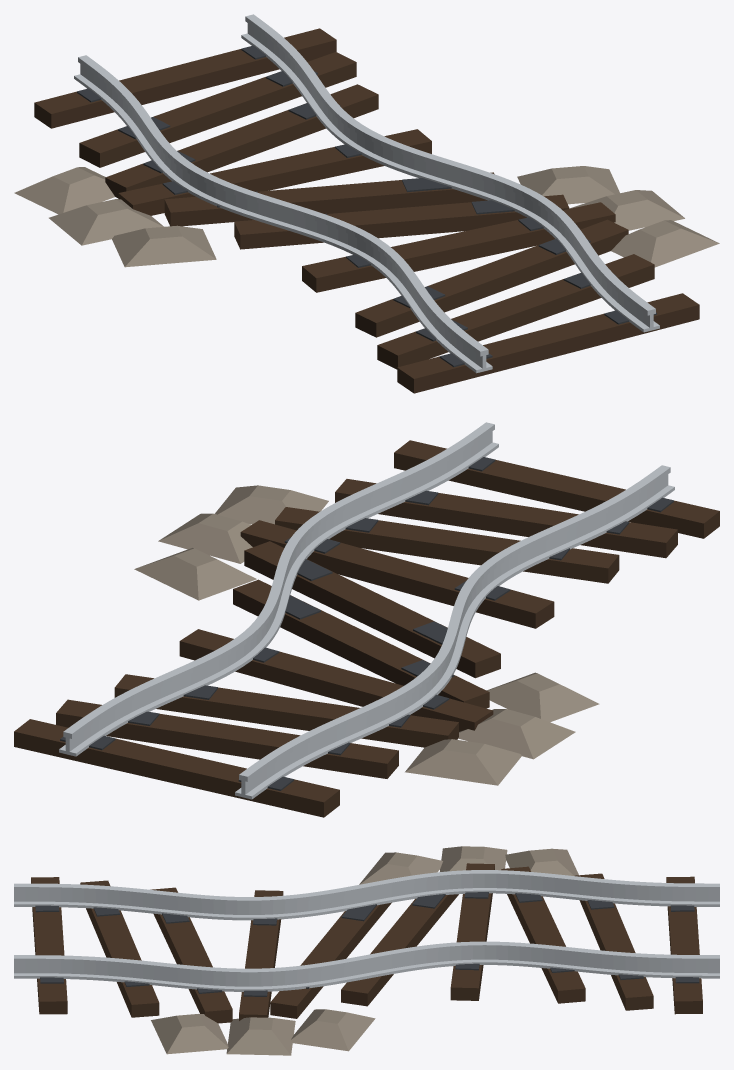
Rendered from prop_track_buckled.glb.
3 views of the same model, one above another, from view 1: azimuth 30°, elevation 25°; view 2: azimuth 150°, elevation 25°; view 3: azimuth 270°, elevation 25° (orthographic). The views are drawn at different scales.
Visible parts, largest first — view 1: sleepers, ballast_spill, rail_near, rail_far, tie_plates; view 2: sleepers, ballast_spill, rail_near, rail_far, tie_plates; view 3: sleepers, rail_far, rail_near, ballast_spill, tie_plates.
Part boxes in pixels (x1,y1,x2,y2): sleepers: [34, 28, 699, 393]; ballast_spill: [14, 166, 719, 267]; rail_near: [74, 55, 492, 373]; rail_far: [241, 14, 659, 332]; tie_plates: [77, 45, 656, 367]; sleepers: [14, 440, 719, 817]; ballast_spill: [134, 485, 599, 785]; rail_near: [235, 465, 674, 799]; rail_far: [59, 422, 498, 756]; tie_plates: [60, 457, 673, 790]; sleepers: [31, 863, 702, 1023]; rail_far: [14, 941, 719, 991]; rail_near: [14, 870, 719, 920]; ballast_spill: [151, 846, 578, 1055]; tie_plates: [35, 892, 699, 996].
Bounding box in the file's own units: 4.17 × 0.29 × 6.
